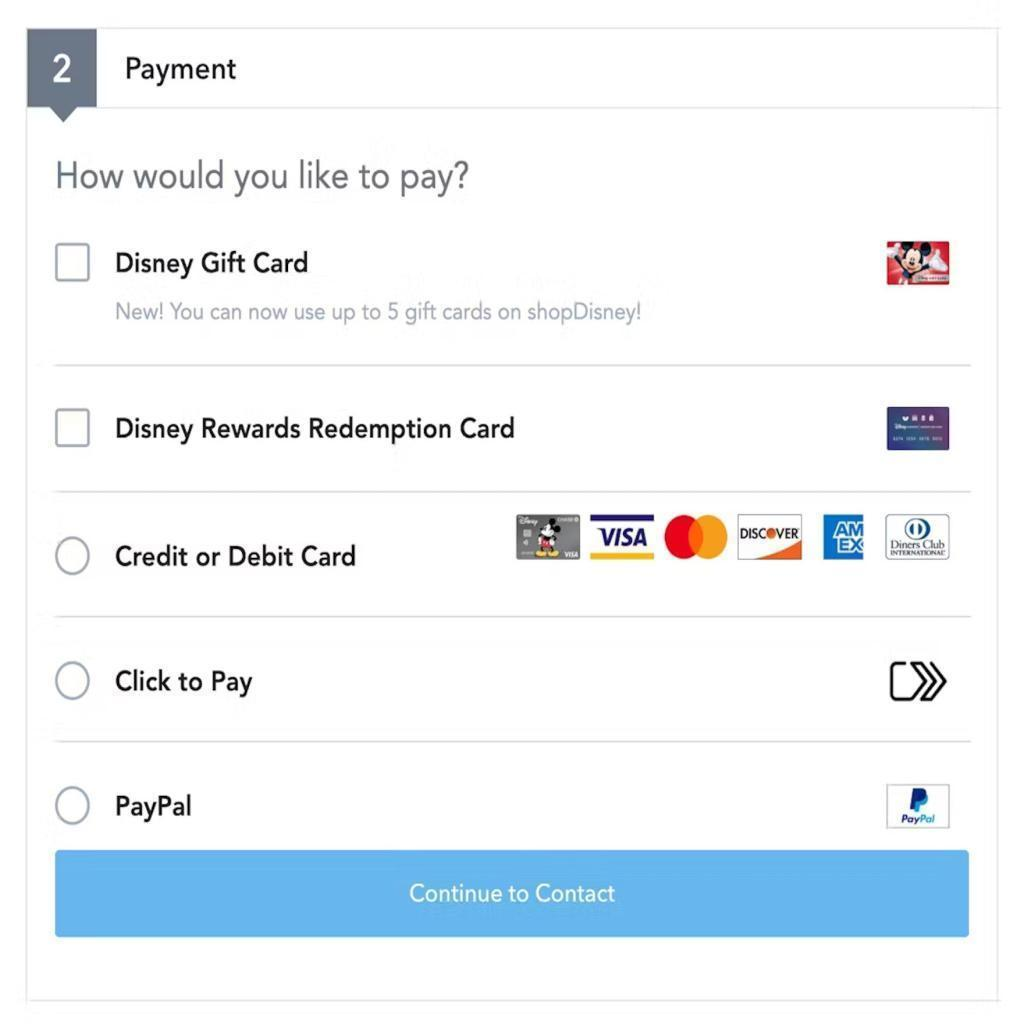button: (59, 849, 971, 938)
checkbox: (55, 241, 93, 285), (54, 408, 91, 449)
radio: (53, 533, 94, 576), (55, 783, 93, 828), (53, 661, 94, 702)
